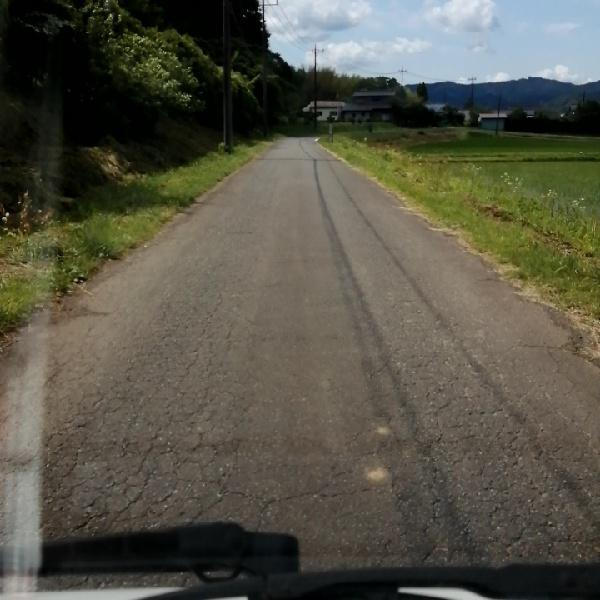D20: (13, 302, 315, 534), (373, 304, 581, 559)
